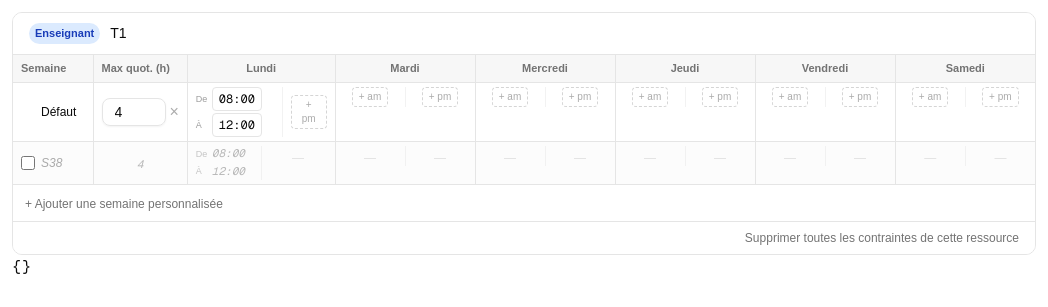
ResourceConstraintEditor — colonne Max quot. › cocher une semaine copie la limite du Défaut et la rend modifiable
Click the checkbox named "Activer la semaine S38" at (28,163), box [21, 156, 35, 170]
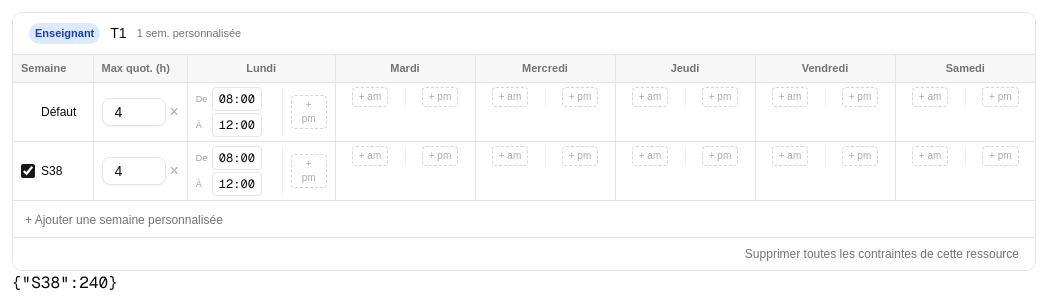
Result: the 2nd number field holds "4" at [102, 157, 166, 185]
